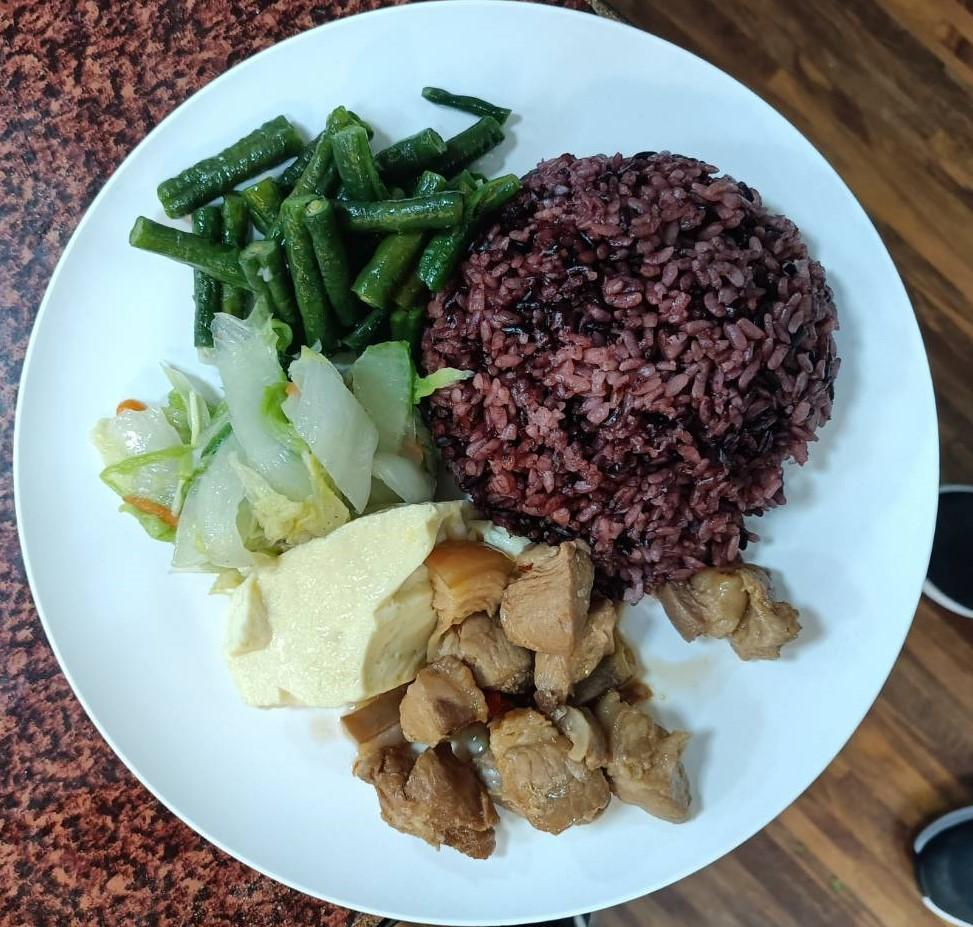big fried chicken leg: (10, 4, 948, 927)
braised fish: (432, 144, 843, 573)
braised fish fillet: (132, 100, 540, 357), (90, 311, 438, 564), (211, 494, 478, 717)
braised pork: (342, 546, 794, 855)
